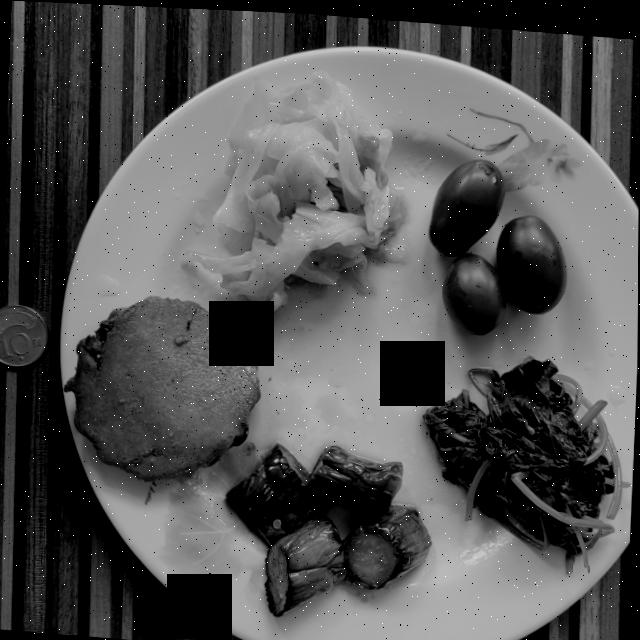Spam: (64, 294, 260, 480)
cabbage: (181, 69, 408, 316)
coin: (0, 304, 48, 367)
sweet potato leaves: (423, 353, 628, 567)
